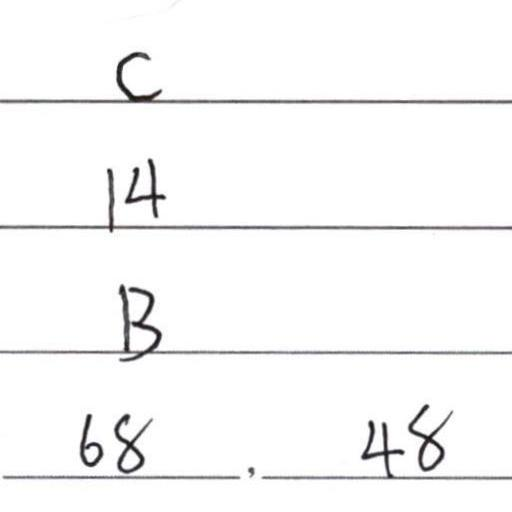ans: (359, 399, 455, 478), (78, 405, 156, 475), (102, 155, 166, 229), (114, 279, 163, 364), (113, 50, 164, 103)
